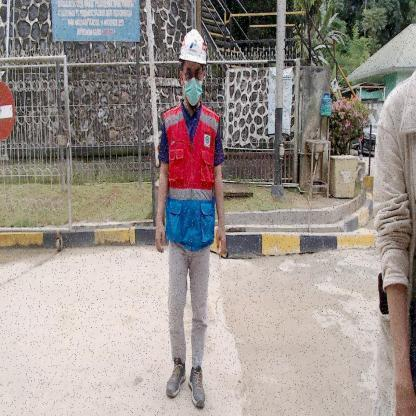boots: (160, 350, 189, 399), (188, 365, 212, 409)
helmet: (176, 27, 212, 68)
mask: (181, 79, 206, 106)
